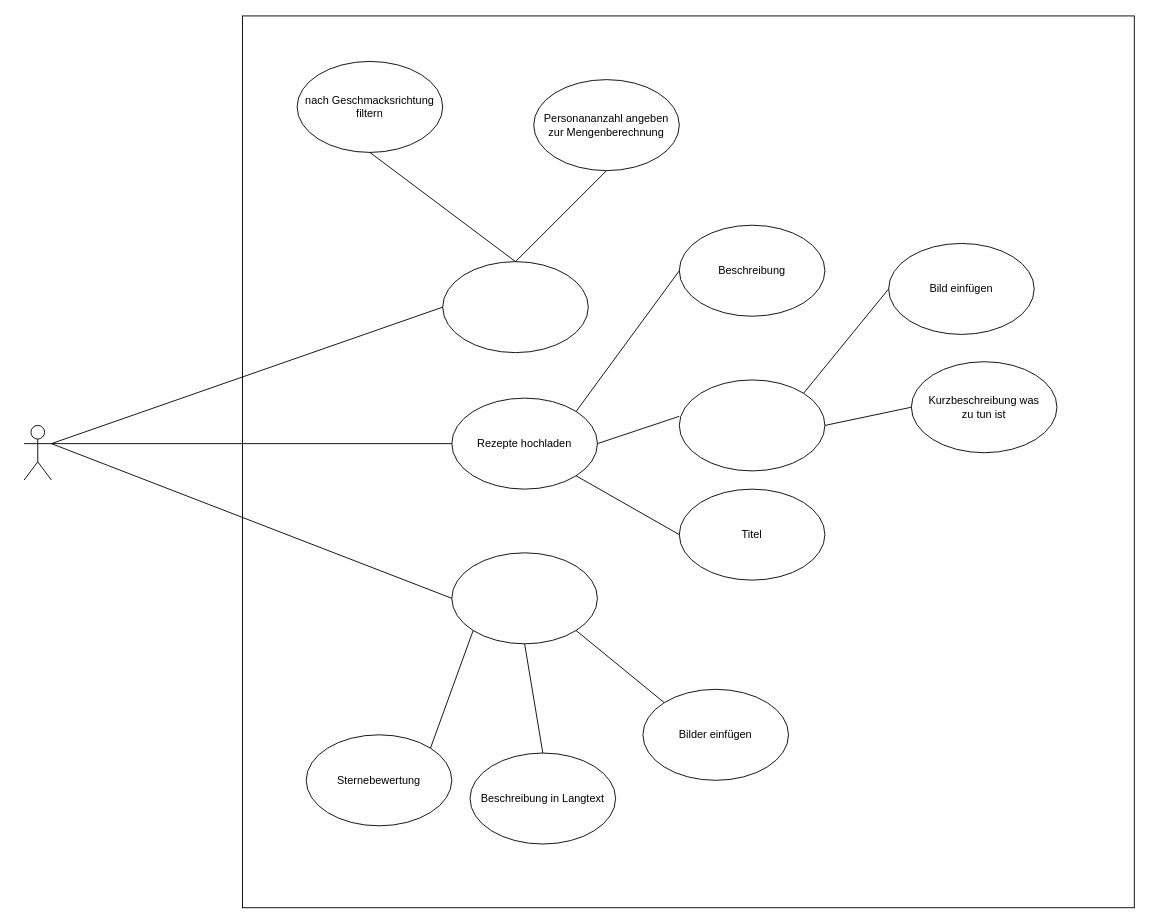
This 1150x924 diagram has some shape labels left out. Each missing label, with the centre of its shape:
Benutzer: the point at 37,452
Kochschritte hinzufügen: the point at 751,425
Rezepte bewerten: the point at 524,598
Rezepte suchen: the point at 515,307
